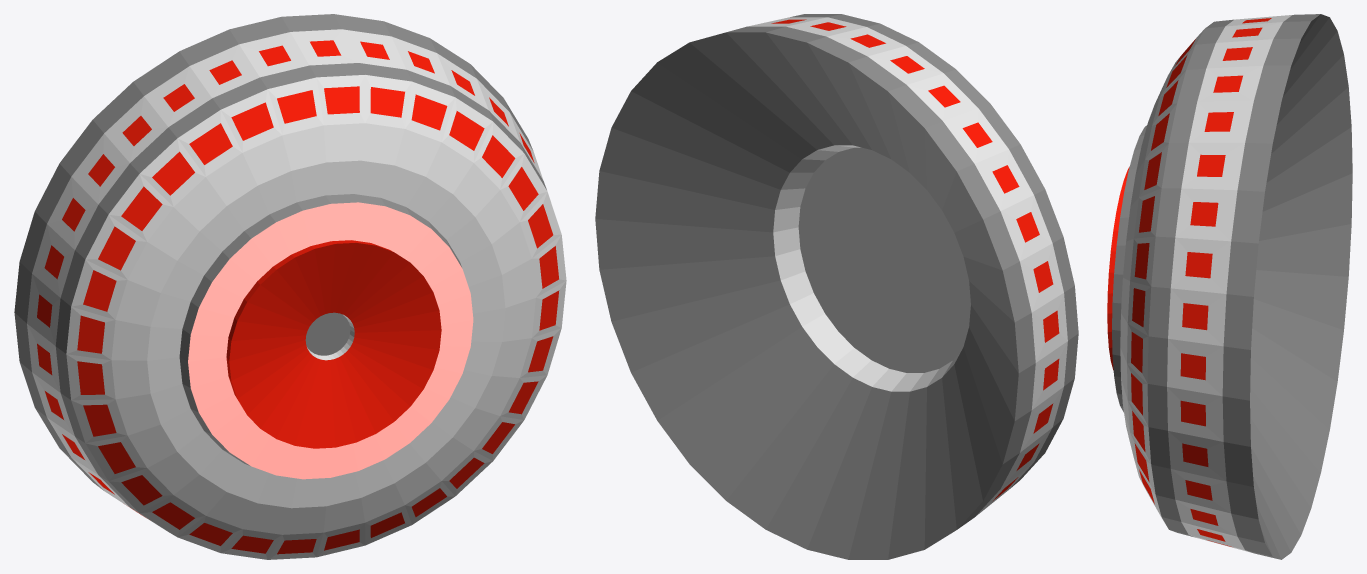
Rendered from mine animaton.fbx.
3 renders of one model, left to right at view 1: azimuth 30°, elevation 25°; view 2: azimuth 150°, elevation 25°; view 3: azimuth 270°, elevation 25°, orthographic. The views are drawn at different scales.
Parts seen in each view (by area): view 1: Cylinder; view 2: Cylinder; view 3: Cylinder.
Part boxes in pixels (left/top/right/bottom): Cylinder: left=14, top=14, right=566, bottom=559; Cylinder: left=595, top=14, right=1078, bottom=559; Cylinder: left=1107, top=14, right=1352, bottom=559.
Bounding box in the file's own units: 86.33 × 191 × 193.
